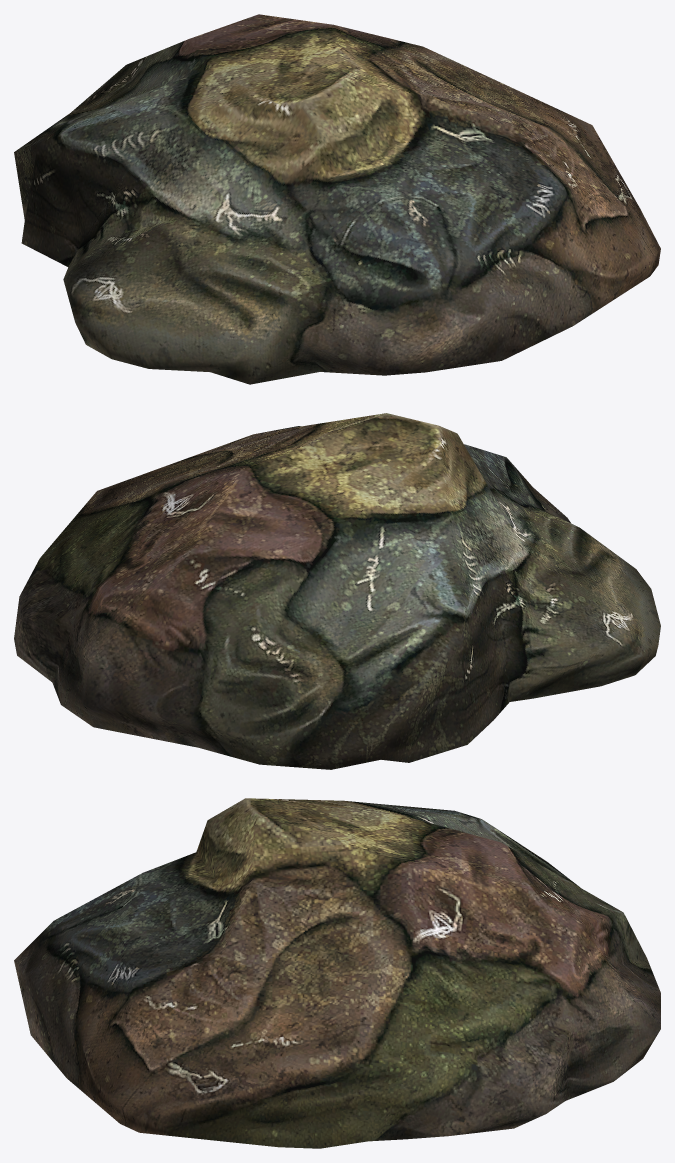
File: pile_of_survivor_clothes_02.dae
3 renders of one model, top to bottom at view 1: azimuth 30°, elevation 25°; view 2: azimuth 150°, elevation 25°; view 3: azimuth 270°, elevation 25°, orthographic. The views are drawn at different scales.
Parts seen in each view (by area): view 1: pile_of_survivor_clothes_02; view 2: pile_of_survivor_clothes_02; view 3: pile_of_survivor_clothes_02.
Boxes of the visible parts, box(x1,y1,x2,y2) form: pile_of_survivor_clothes_02: box(14, 14, 660, 384); pile_of_survivor_clothes_02: box(14, 413, 660, 769); pile_of_survivor_clothes_02: box(14, 798, 660, 1148).
Bounding box in the file's own units: 0.7691 × 0.2774 × 0.7928.
